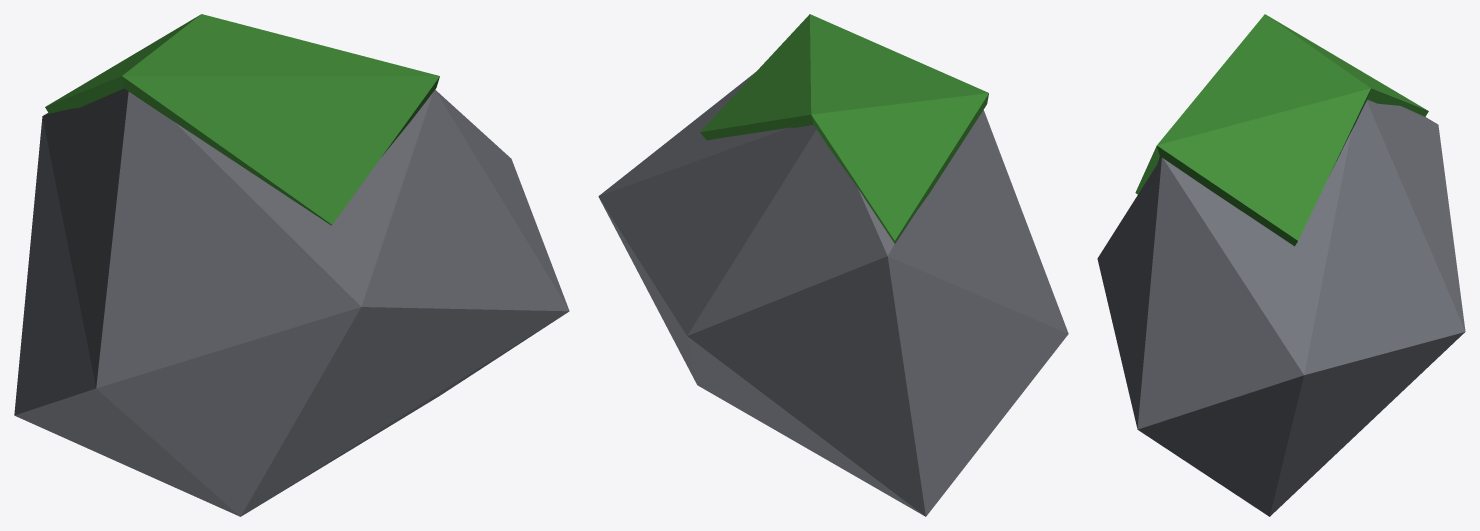
File: rock_3.fbx
The picture shows the model from 3 angles, left to right: view 1: azimuth 30°, elevation 25°; view 2: azimuth 150°, elevation 25°; view 3: azimuth 270°, elevation 25°; orthographic projection. The views are drawn at different scales.
Parts seen in each view (by area): view 1: rock3; view 2: rock3; view 3: rock3.
Boxes of the visible parts, left/top/right/bottom form: rock3: left=14, top=14, right=569, bottom=516; rock3: left=598, top=14, right=1068, bottom=516; rock3: left=1097, top=14, right=1465, bottom=516.
Size of the model in its own units: 1.11 by 0.8369 by 0.9068.
